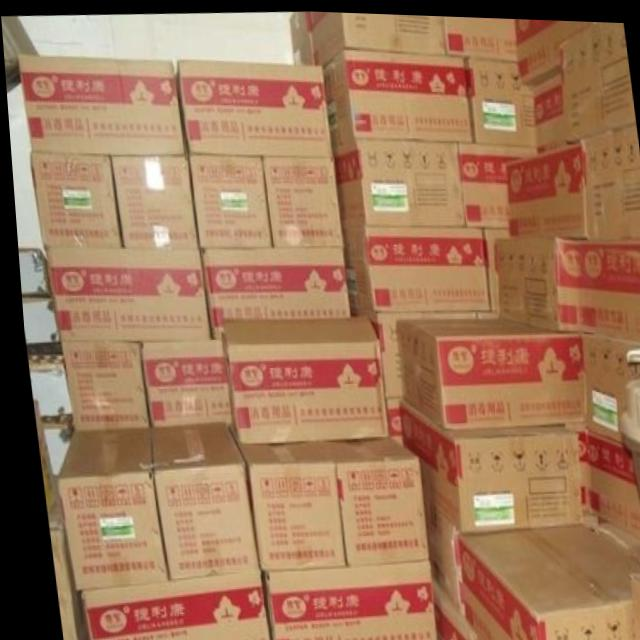box: (395, 397, 578, 529), (450, 521, 640, 640), (216, 311, 382, 442), (391, 317, 582, 427), (50, 427, 159, 590), (144, 422, 251, 579), (16, 54, 184, 152), (41, 246, 205, 340), (323, 44, 472, 147), (175, 58, 331, 154), (254, 558, 427, 640), (313, 435, 421, 566), (231, 440, 338, 568), (197, 246, 346, 337), (70, 570, 259, 640), (346, 224, 486, 309), (331, 136, 464, 224), (361, 311, 473, 398), (561, 17, 634, 138), (28, 154, 118, 246), (490, 233, 576, 328), (136, 336, 226, 425), (504, 138, 585, 236), (108, 154, 194, 246), (56, 340, 144, 429), (186, 154, 268, 246), (259, 154, 341, 246), (310, 9, 446, 62), (580, 118, 640, 235), (577, 328, 640, 437), (581, 425, 640, 540), (573, 236, 640, 337), (457, 139, 535, 224), (464, 53, 535, 141), (517, 15, 597, 81), (417, 499, 455, 618), (444, 13, 517, 57), (423, 580, 469, 640), (379, 394, 400, 447)
